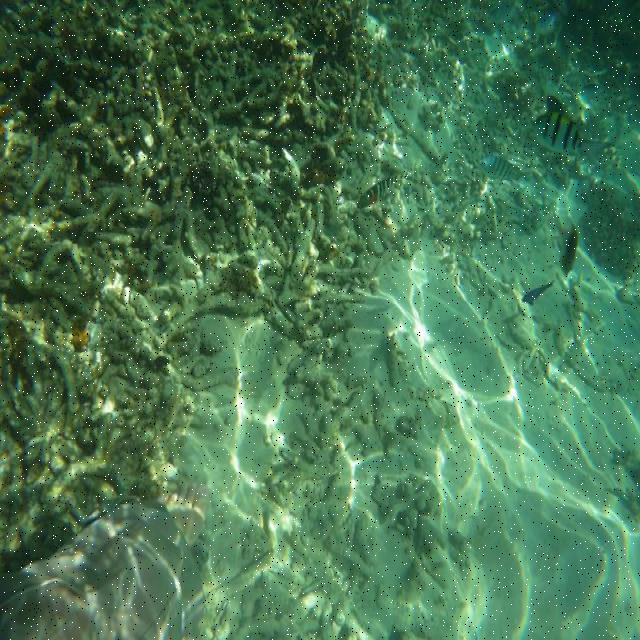fish: (535, 96, 601, 158), (479, 155, 532, 182), (358, 176, 398, 209), (561, 223, 578, 275), (522, 282, 551, 305)
